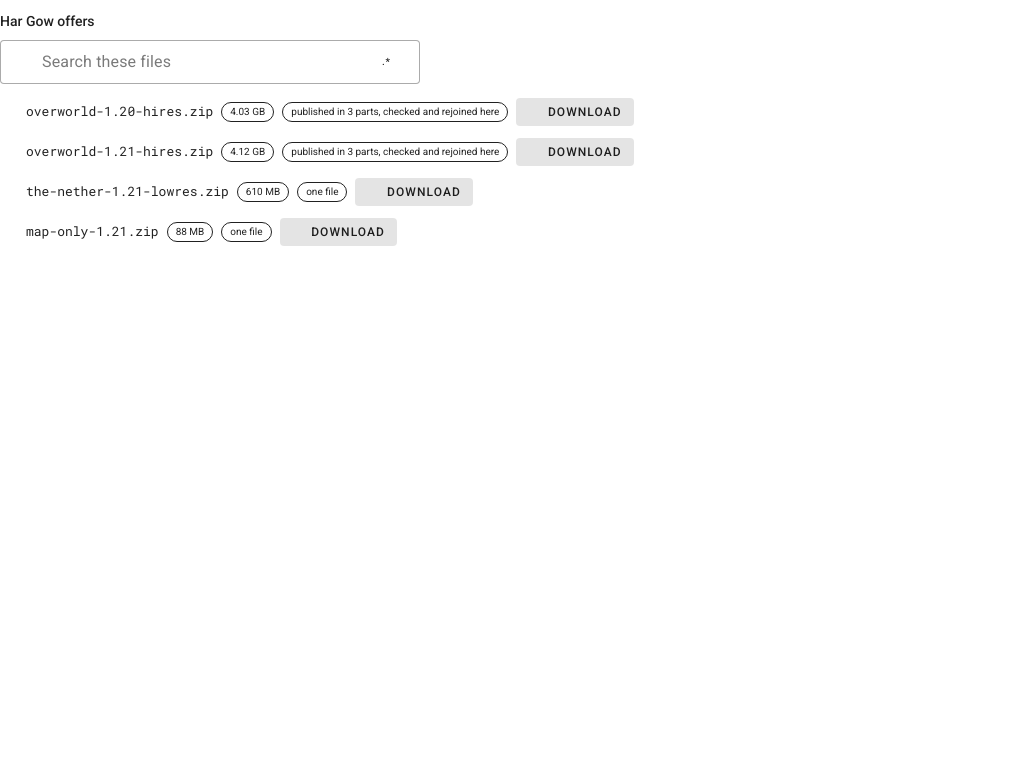
the builder, opened from this field › opens from this field's own activator and reports itself expanded
Click the button named "Open the regex builder". click: (386, 62)
box: [364,40,408,84]
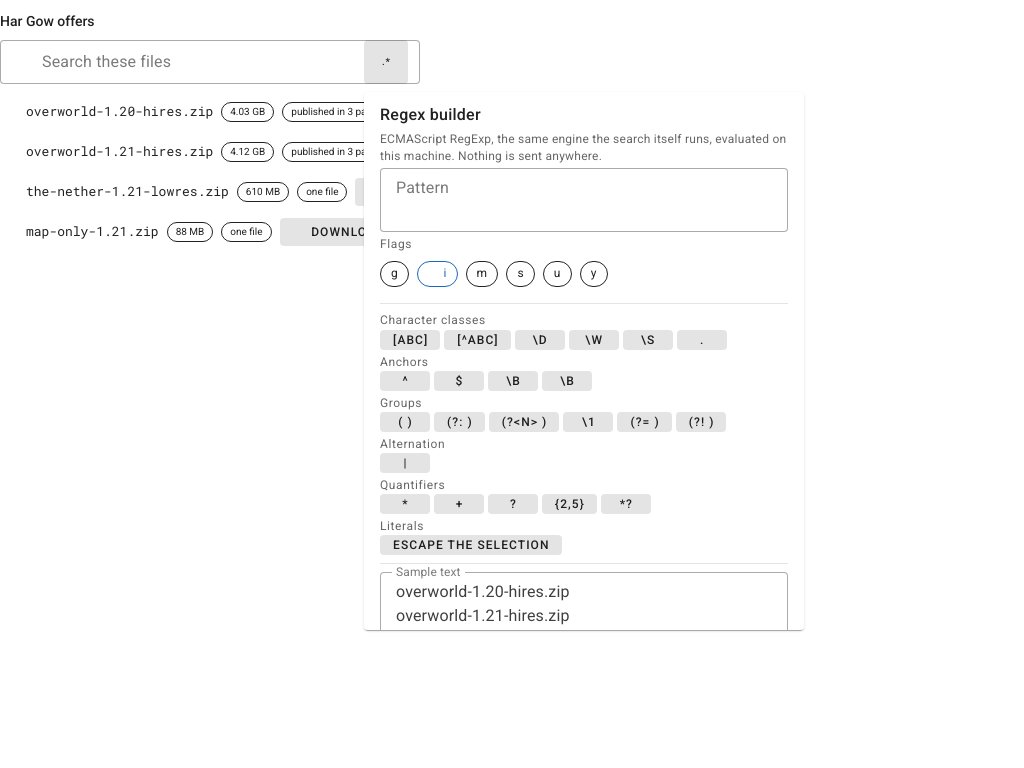
expect the button named "Open the regex builder" is expanded: met, box [364,40,408,84]
